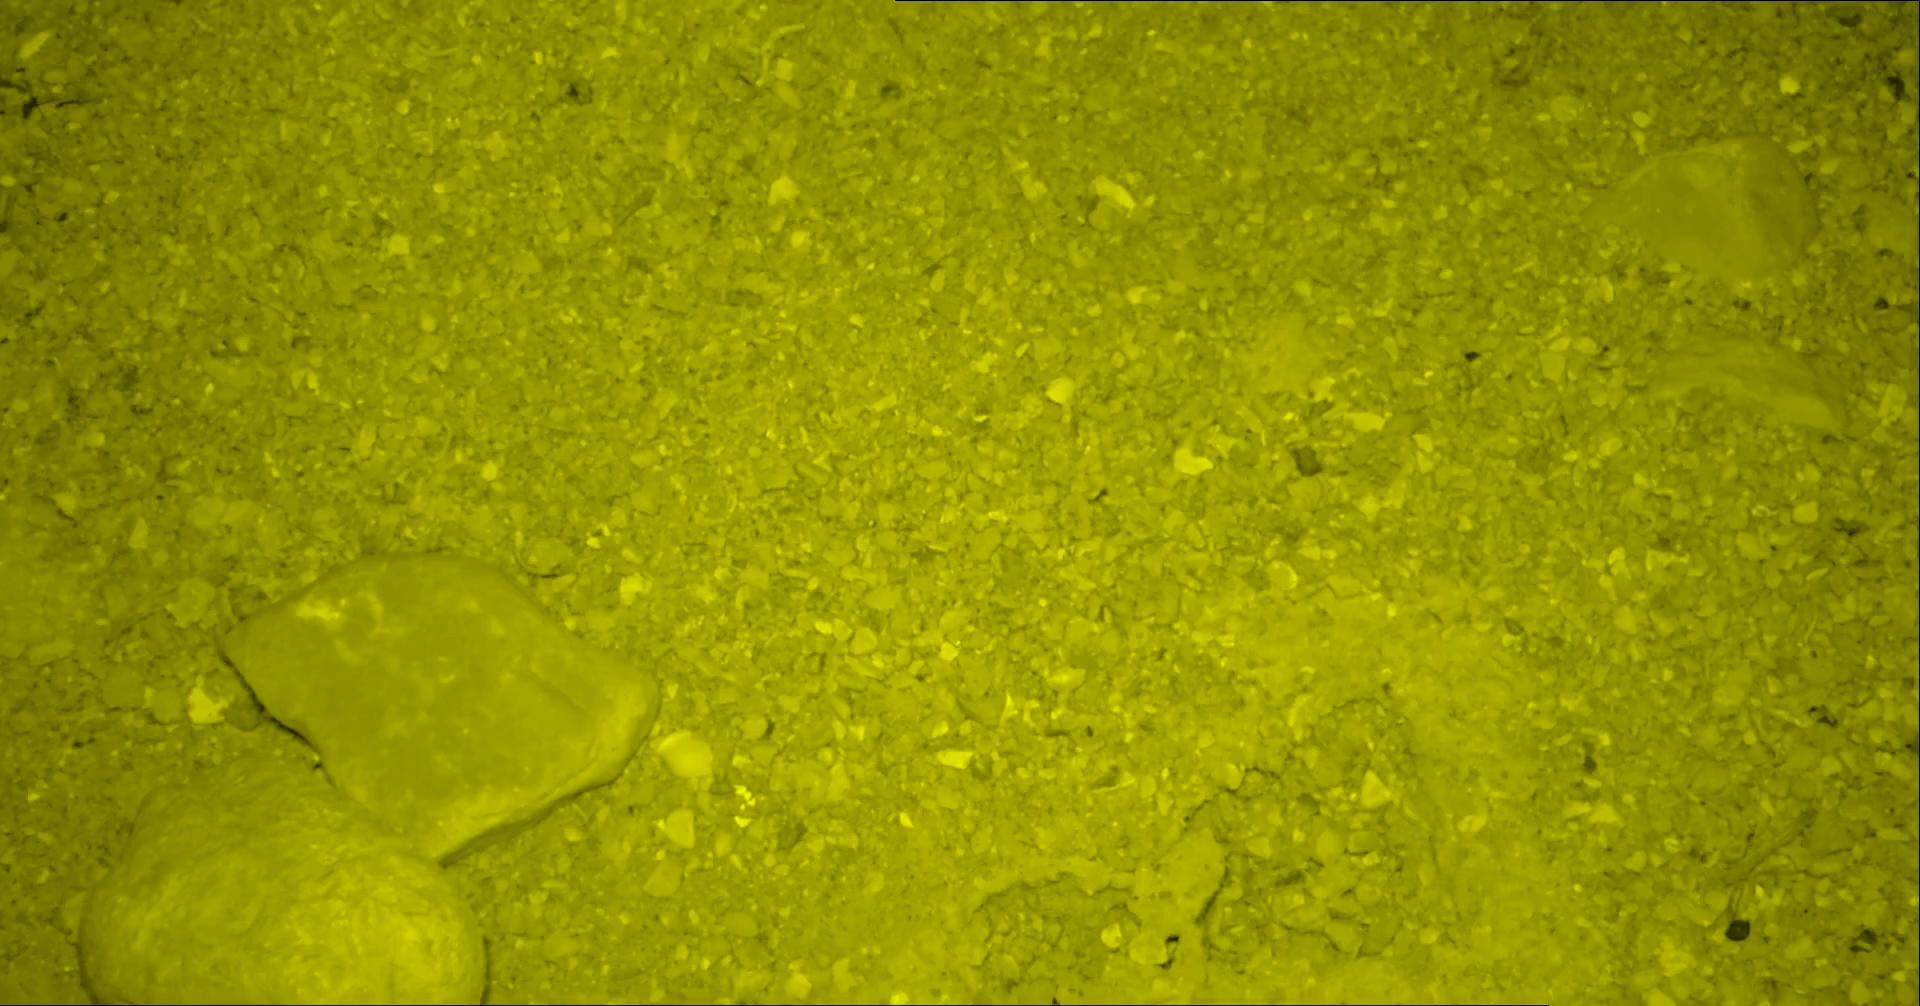ant: (1851, 0, 1919, 38), (1917, 44, 1919, 133), (1768, 0, 1836, 1)
